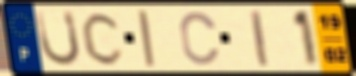1: (292, 9, 320, 68)
C: (80, 10, 126, 67), (178, 10, 223, 67)
I: (248, 8, 272, 69), (135, 8, 158, 69)
U: (34, 9, 83, 68)
